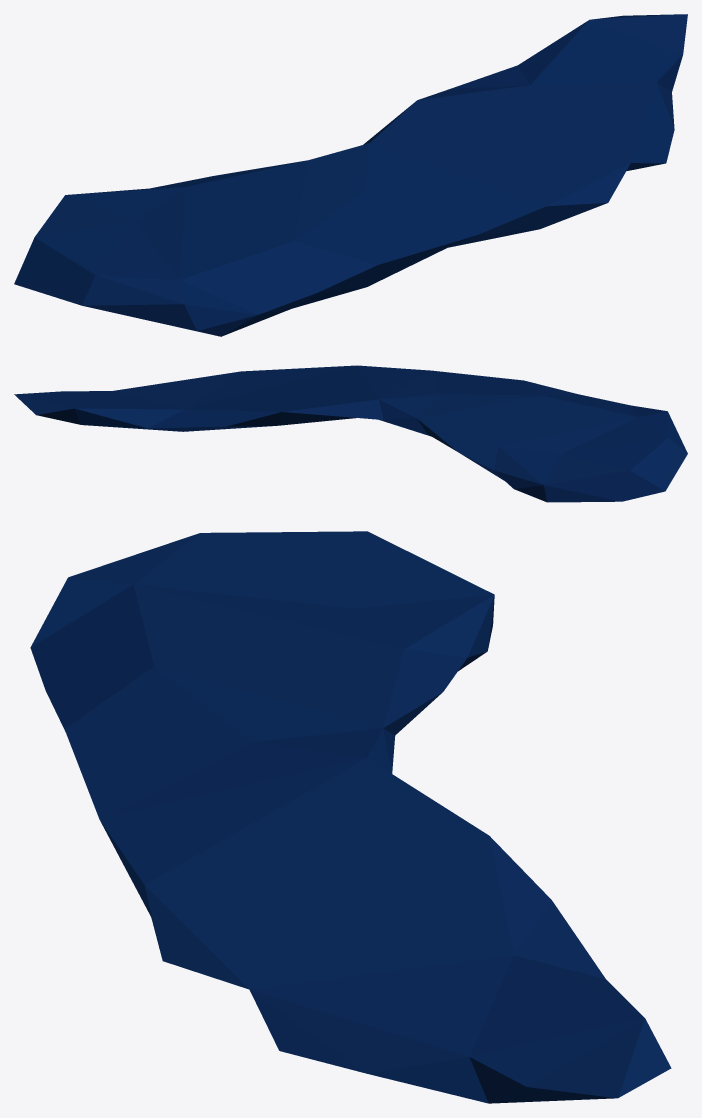
File: Cave_stone_17.glb
3 views of the same model, one above another, from view 1: azimuth 30°, elevation 25°; view 2: azimuth 150°, elevation 25°; view 3: azimuth 270°, elevation 25° (orthographic). The views are drawn at different scales.
Visible parts, largest first — view 1: Cave_stone_17; view 2: Cave_stone_17; view 3: Cave_stone_17.
Boxes of the visible parts, <box> form: Cave_stone_17: <box>14,14,687,336</box>; Cave_stone_17: <box>14,365,687,502</box>; Cave_stone_17: <box>30,531,671,1103</box>.
Bounding box in the file's own units: 3.96 × 0.3344 × 1.9.
